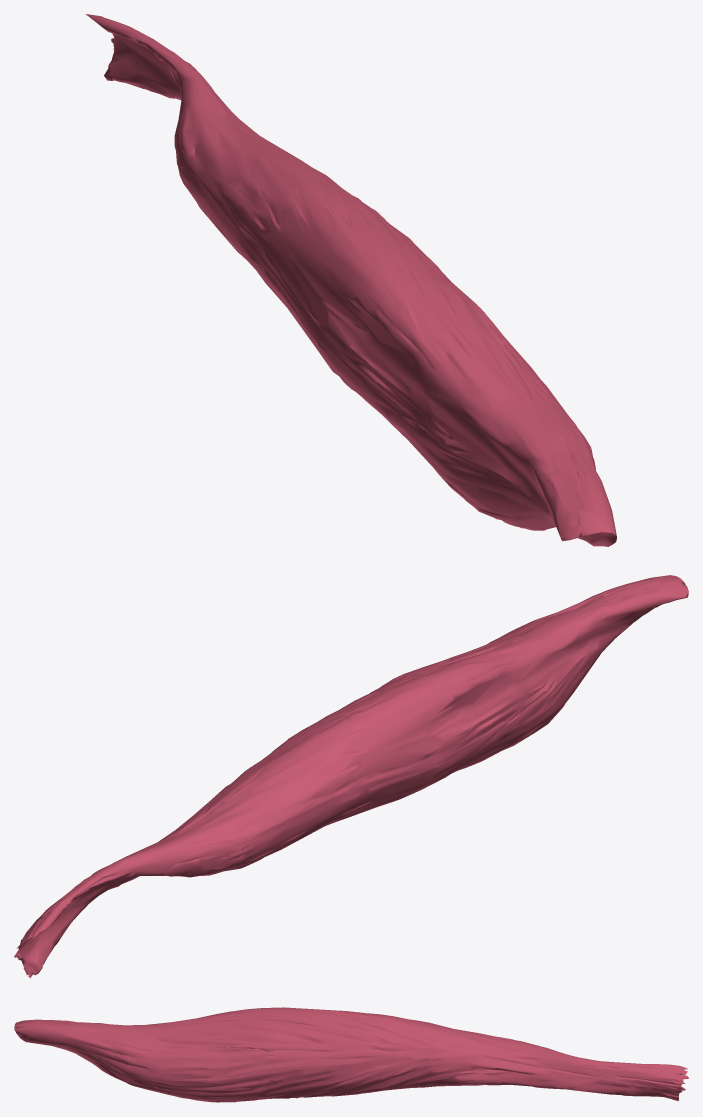
3 views of the same model, one above another, from view 1: azimuth 30°, elevation 25°; view 2: azimuth 150°, elevation 25°; view 3: azimuth 270°, elevation 25° (orthographic). The views are drawn at different scales.
Parts seen in each view (by area): view 1: 左侧股二头肌长头; view 2: 左侧股二头肌长头; view 3: 左侧股二头肌长头.
Part boxes in pixels (x1=…): 左侧股二头肌长头: x1=86, y1=14, x2=616, y2=546; 左侧股二头肌长头: x1=14, y1=575, x2=688, y2=978; 左侧股二头肌长头: x1=14, y1=1007, x2=688, y2=1102.
Bounding box in the file's own units: 0.1153 × 0.0823 × 0.6268.
